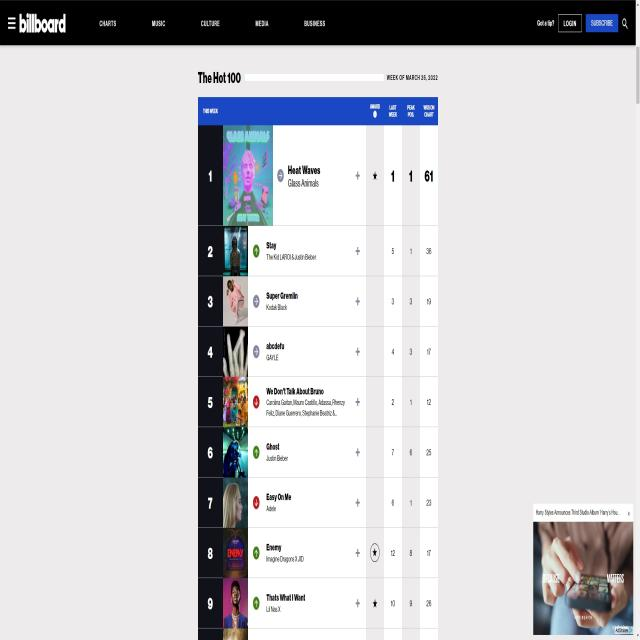menu-bar: (90, 4, 335, 38)
